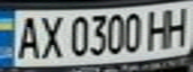0: (66, 12, 90, 59), (106, 11, 127, 55), (124, 9, 145, 53)
3: (87, 11, 109, 56)
A: (12, 12, 42, 60)
H: (163, 3, 193, 48), (145, 6, 172, 51)
X: (36, 12, 66, 60)
